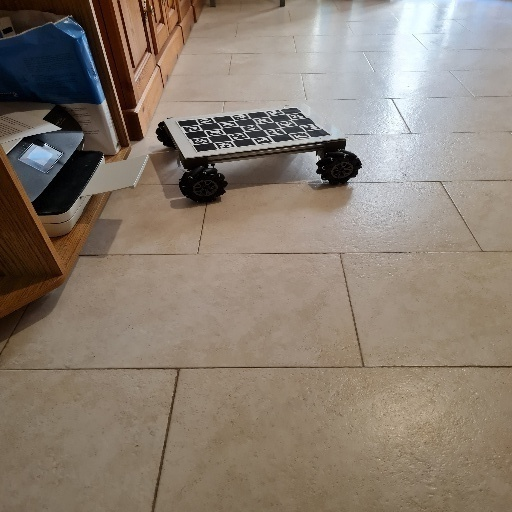Omniwheel: (157, 102, 365, 204)
